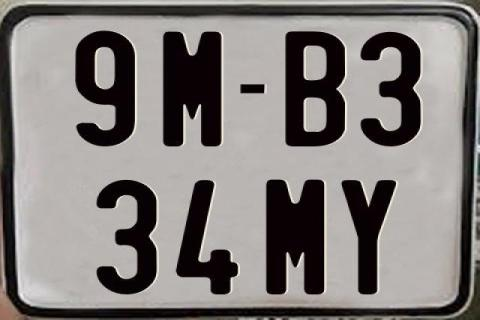0: (93, 180, 160, 298), (75, 29, 139, 148), (358, 31, 422, 149), (173, 180, 235, 294)
B: (285, 30, 346, 150)
M: (263, 177, 325, 293), (163, 29, 221, 147)
Y: (339, 179, 394, 297)
